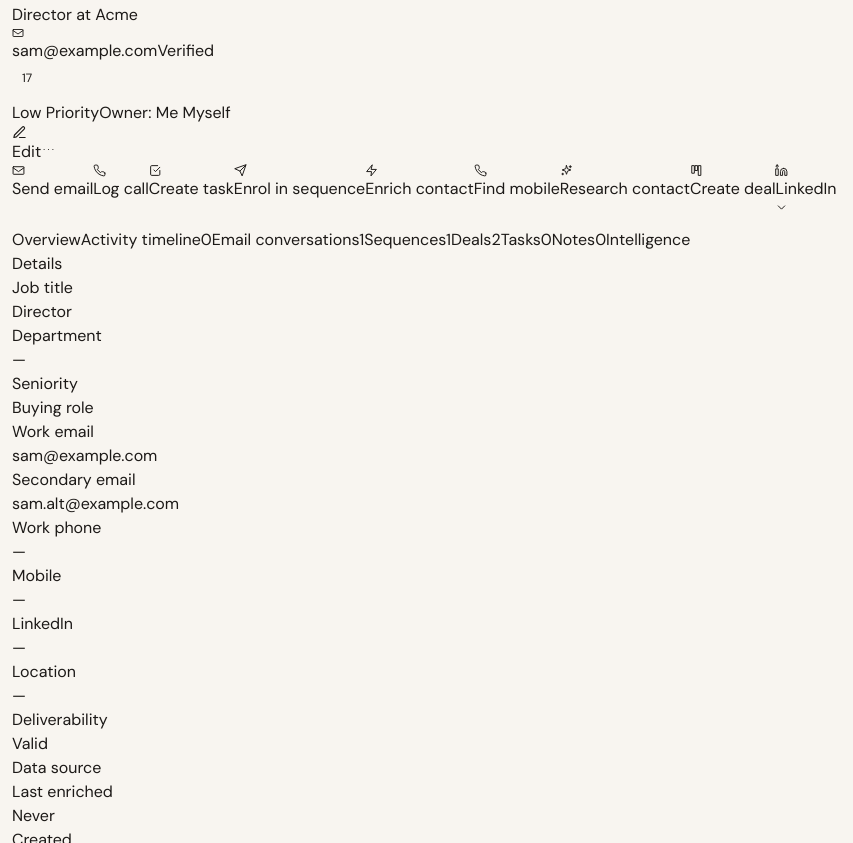
Test case: Contact: archive and restore › archiving keeps the contact page readable under an Archived banner with Restore; restoring leaves enrolments stopped
Click the button named "More actions" at (49, 150), box [41, 142, 56, 157]
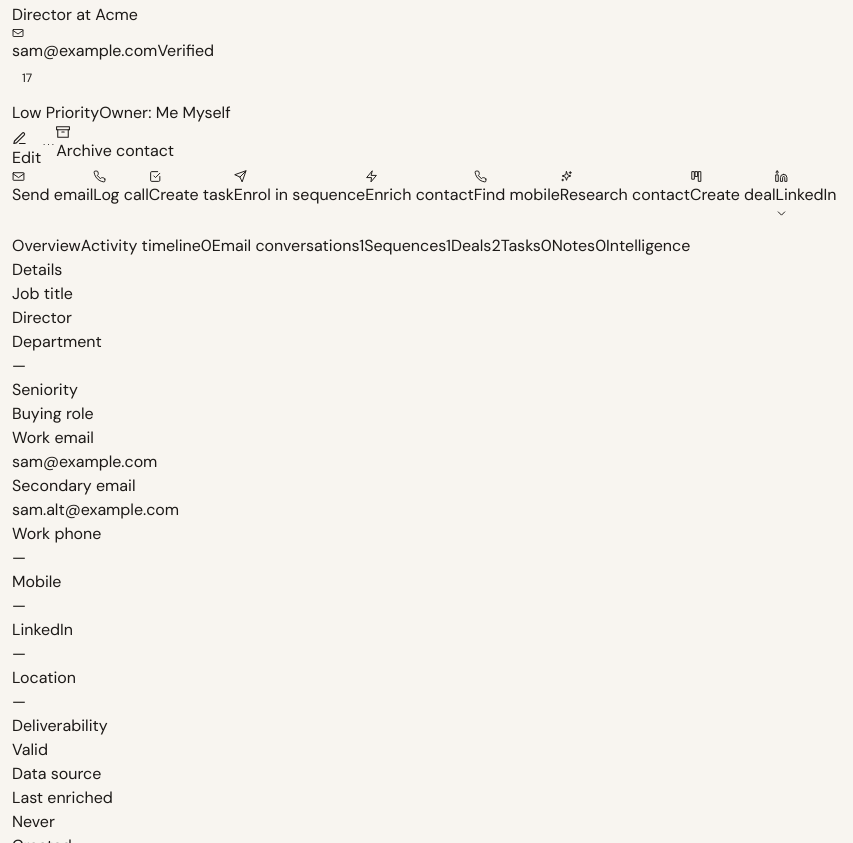
Click the menu item "Archive contact" at (115, 144), box [56, 125, 174, 163]
(page scrolled)
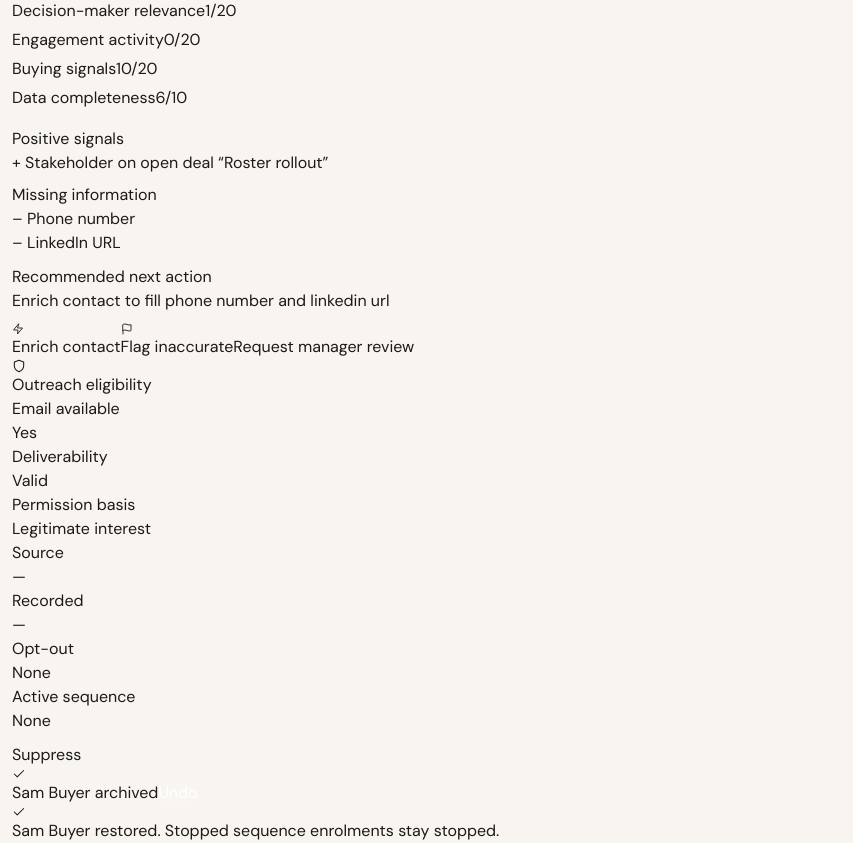
Expected: the message with class "toasts" shows "Sam Buyer restored. Stopped sequence enrolments stay stopped.", [12, 820, 499, 841]
